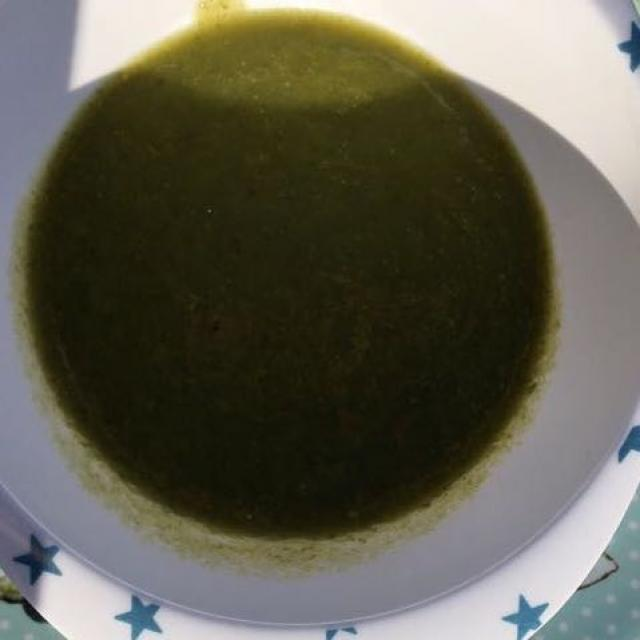soup-vegetable: (30, 42, 546, 538)
